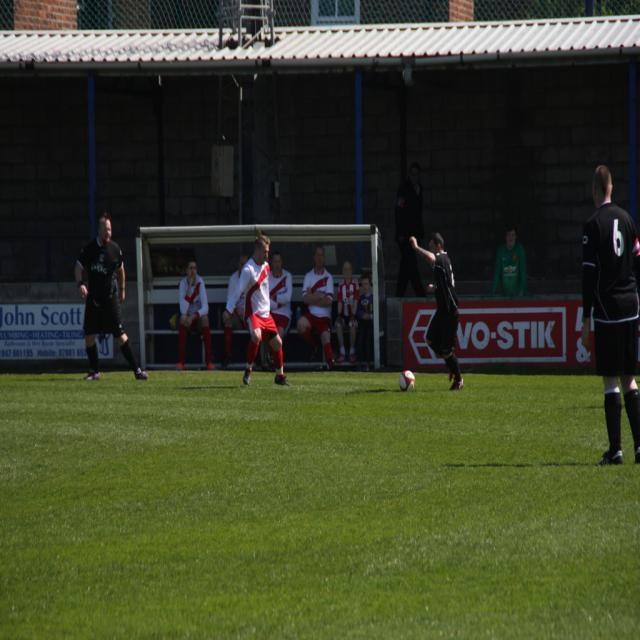football: (398, 363, 421, 397)
